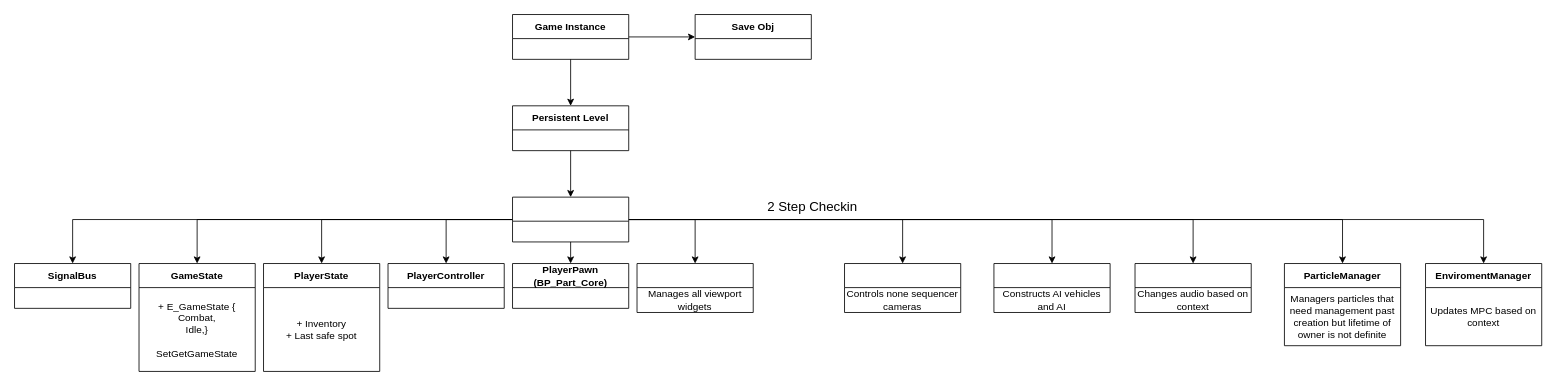
This 1556x386 diagram has some shape labels left out. Here are the shapes that lost their labels. From the top down, the box of each, then its label:
(512, 196, 629, 242): GameMode
(636, 263, 753, 312): HUDClass
(844, 263, 961, 312): CameraManager
(993, 263, 1110, 312): AI Manager
(1134, 263, 1251, 312): AudioManager
